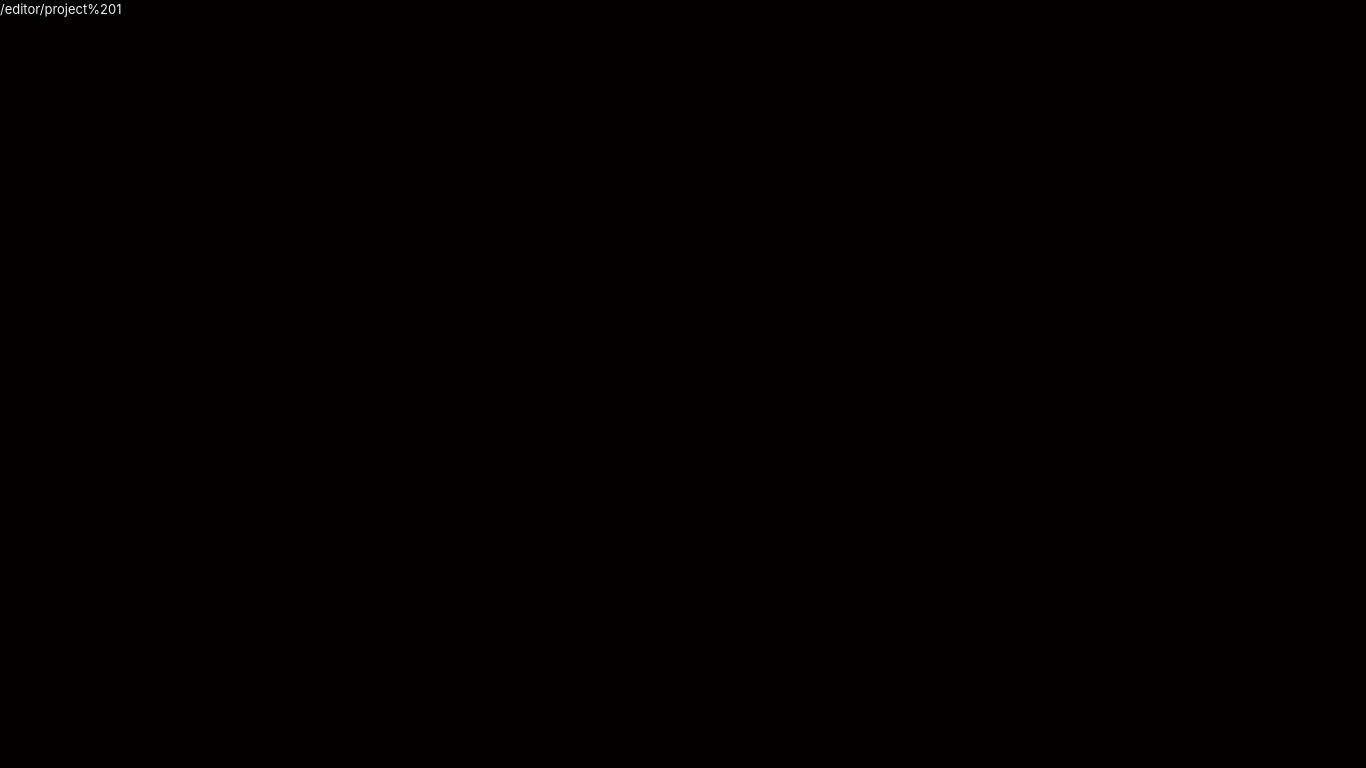
CommandPalette › keeps project actions scoped to the active project
Type keys "{Meta>}k{/Meta}"
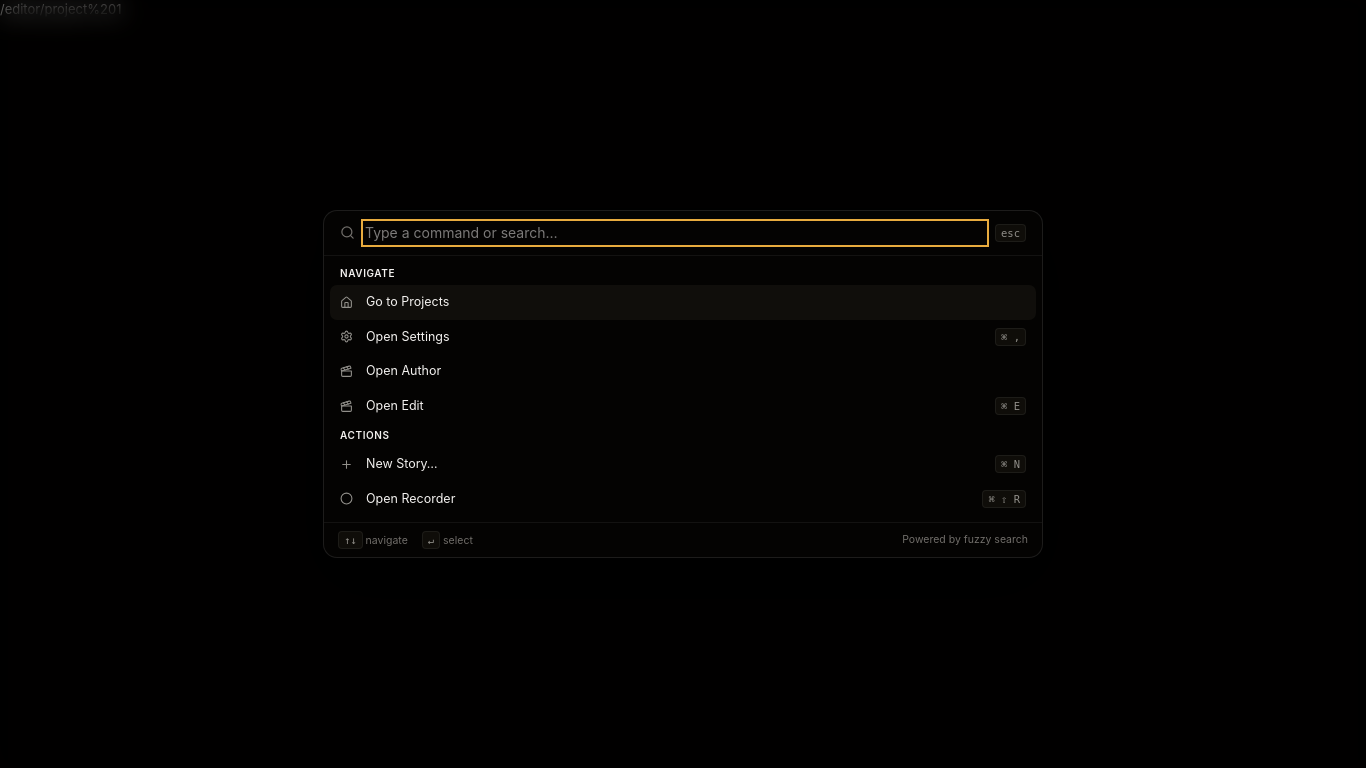
Click the text "Open Recorder". click: (411, 498)
box: x1=366 y1=490 x2=455 y2=506
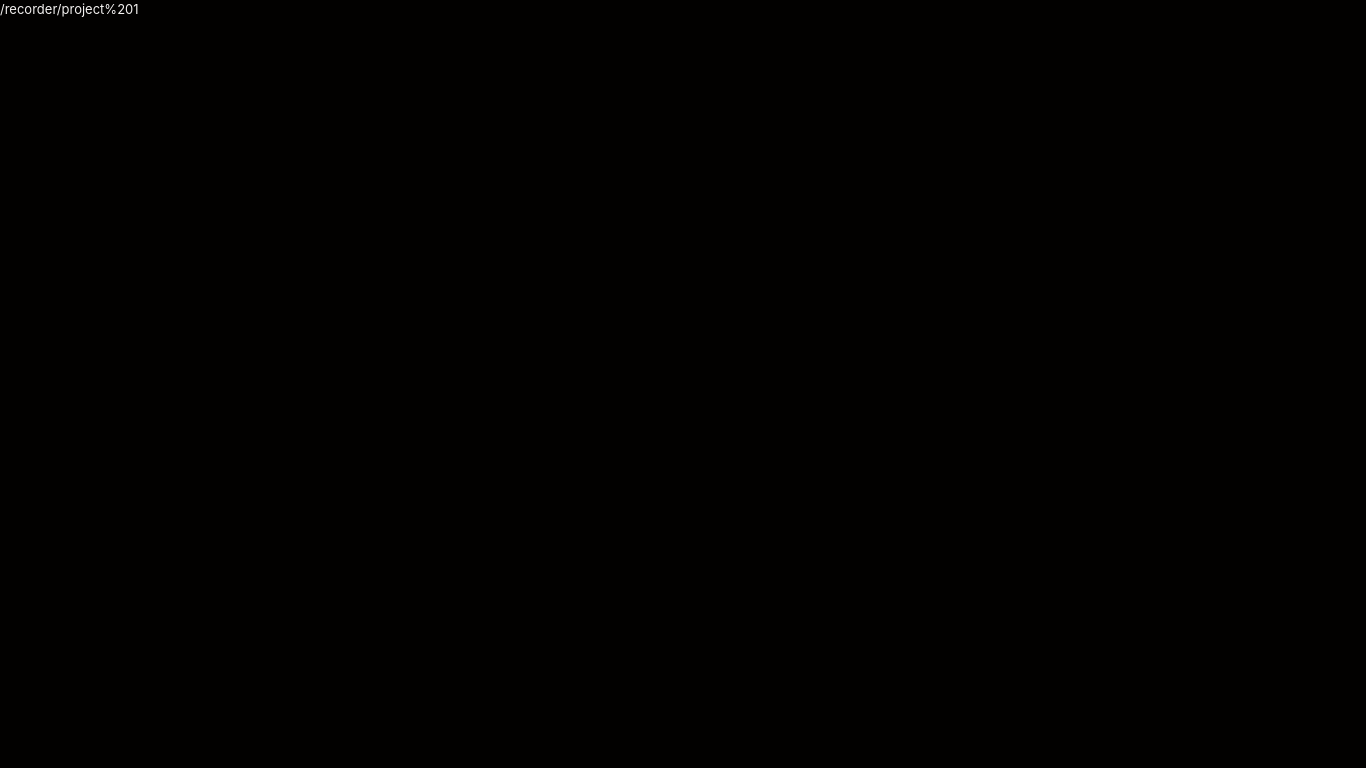
Result: the text with test id "location" reads "/recorder/project%201" at x1=0 y1=1 x2=138 y2=17
